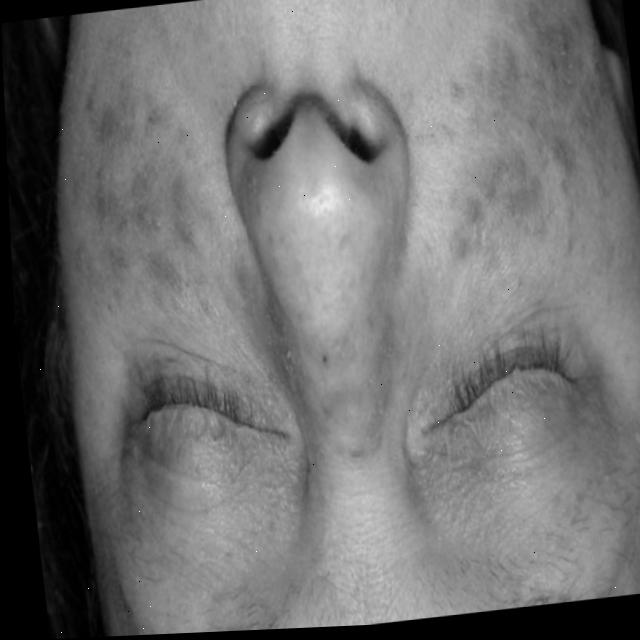Rosacea: (408, 0, 604, 258), (78, 113, 229, 328), (293, 299, 402, 439)
